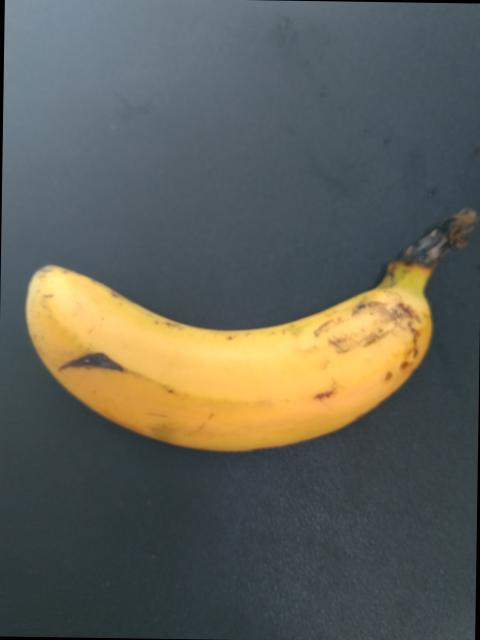ripe: (30, 226, 454, 489)
